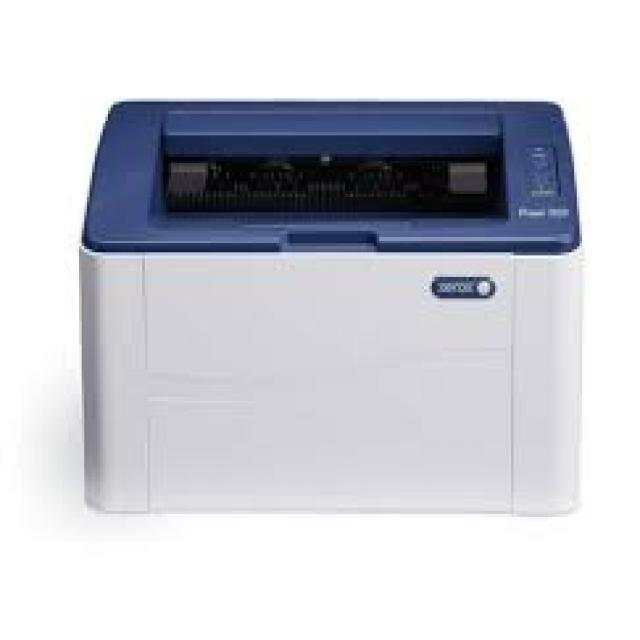printer: (54, 46, 616, 562)
